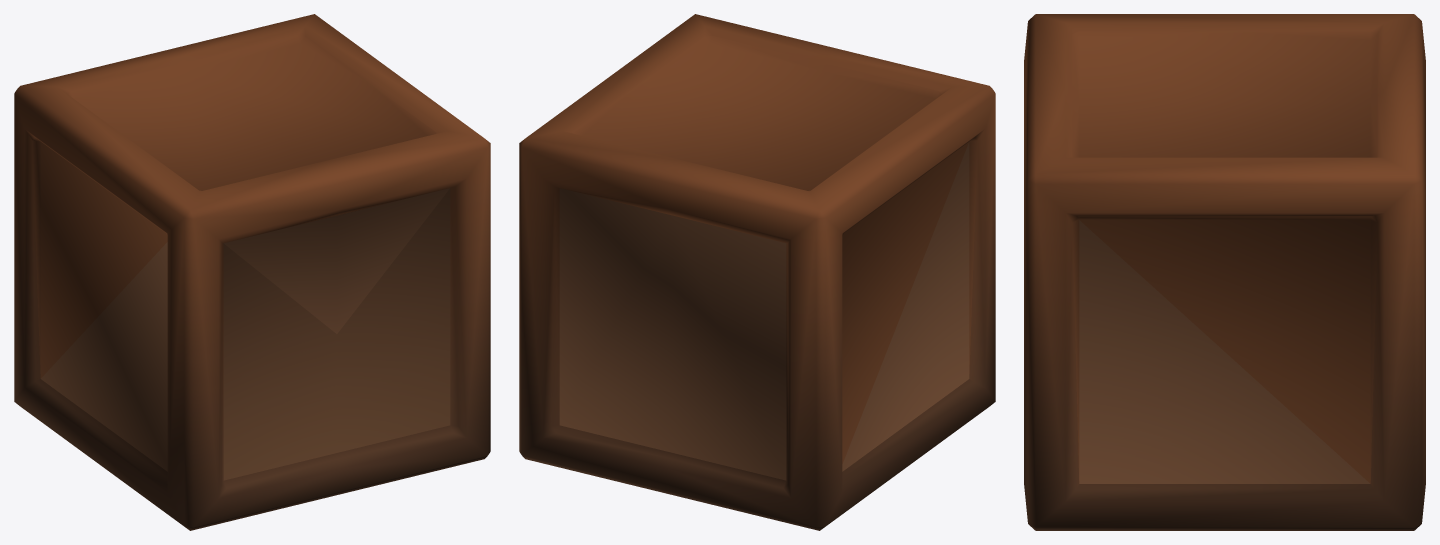
Rendered from Crate_Big.fbx.
3 views of the same model, side by side, from view 1: azimuth 30°, elevation 25°; view 2: azimuth 150°, elevation 25°; view 3: azimuth 270°, elevation 25° (orthographic). The views are drawn at different scales.
Visible parts, largest first — view 1: Crate_Big; view 2: Crate_Big; view 3: Crate_Big.
Part boxes in pixels (x1,y1,x2,y2): Crate_Big: (14,14,490,530); Crate_Big: (519,14,995,530); Crate_Big: (1024,14,1425,530).
Size of the model in its own units: 214 by 214 by 214.
